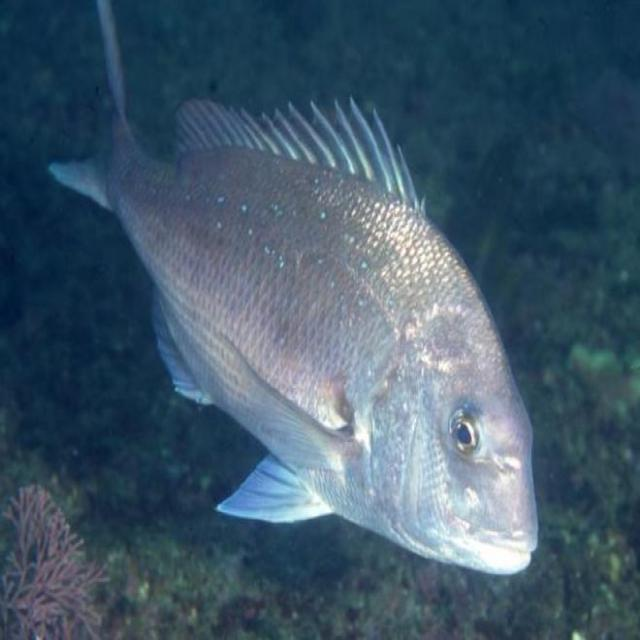Healthy Fish: (36, 2, 550, 590)
